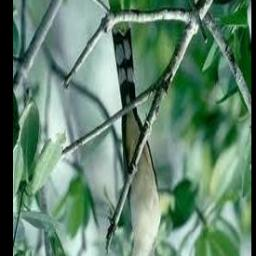Cuckoo: (111, 19, 160, 256)
